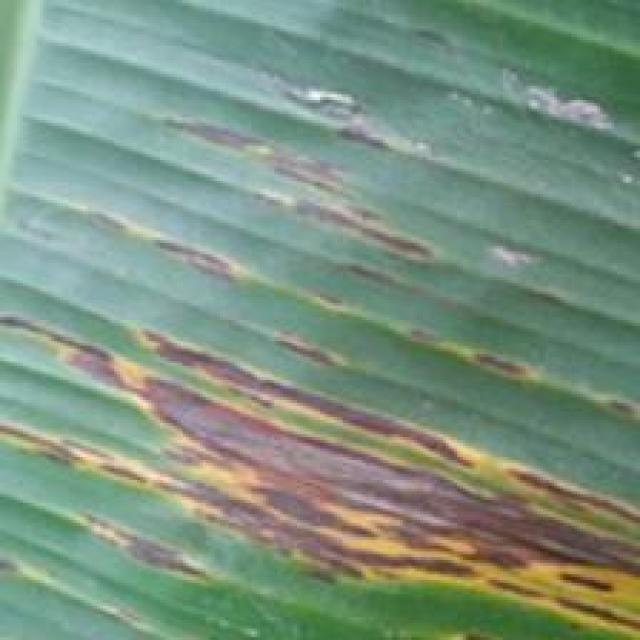Early_leaf_spot: (0, 280, 640, 640), (13, 173, 635, 416), (152, 78, 447, 278), (213, 66, 439, 165), (451, 52, 640, 152)
